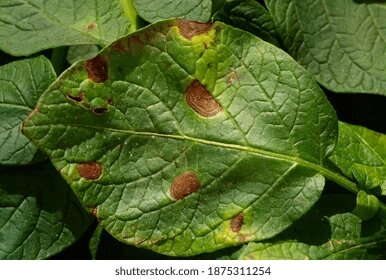potato_leaf: (17, 15, 343, 254)
